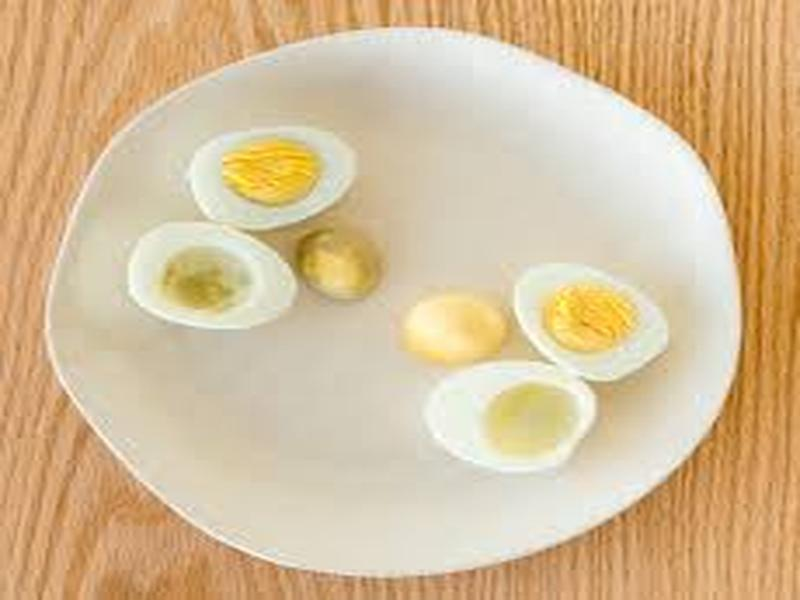egg: (118, 105, 731, 521)
